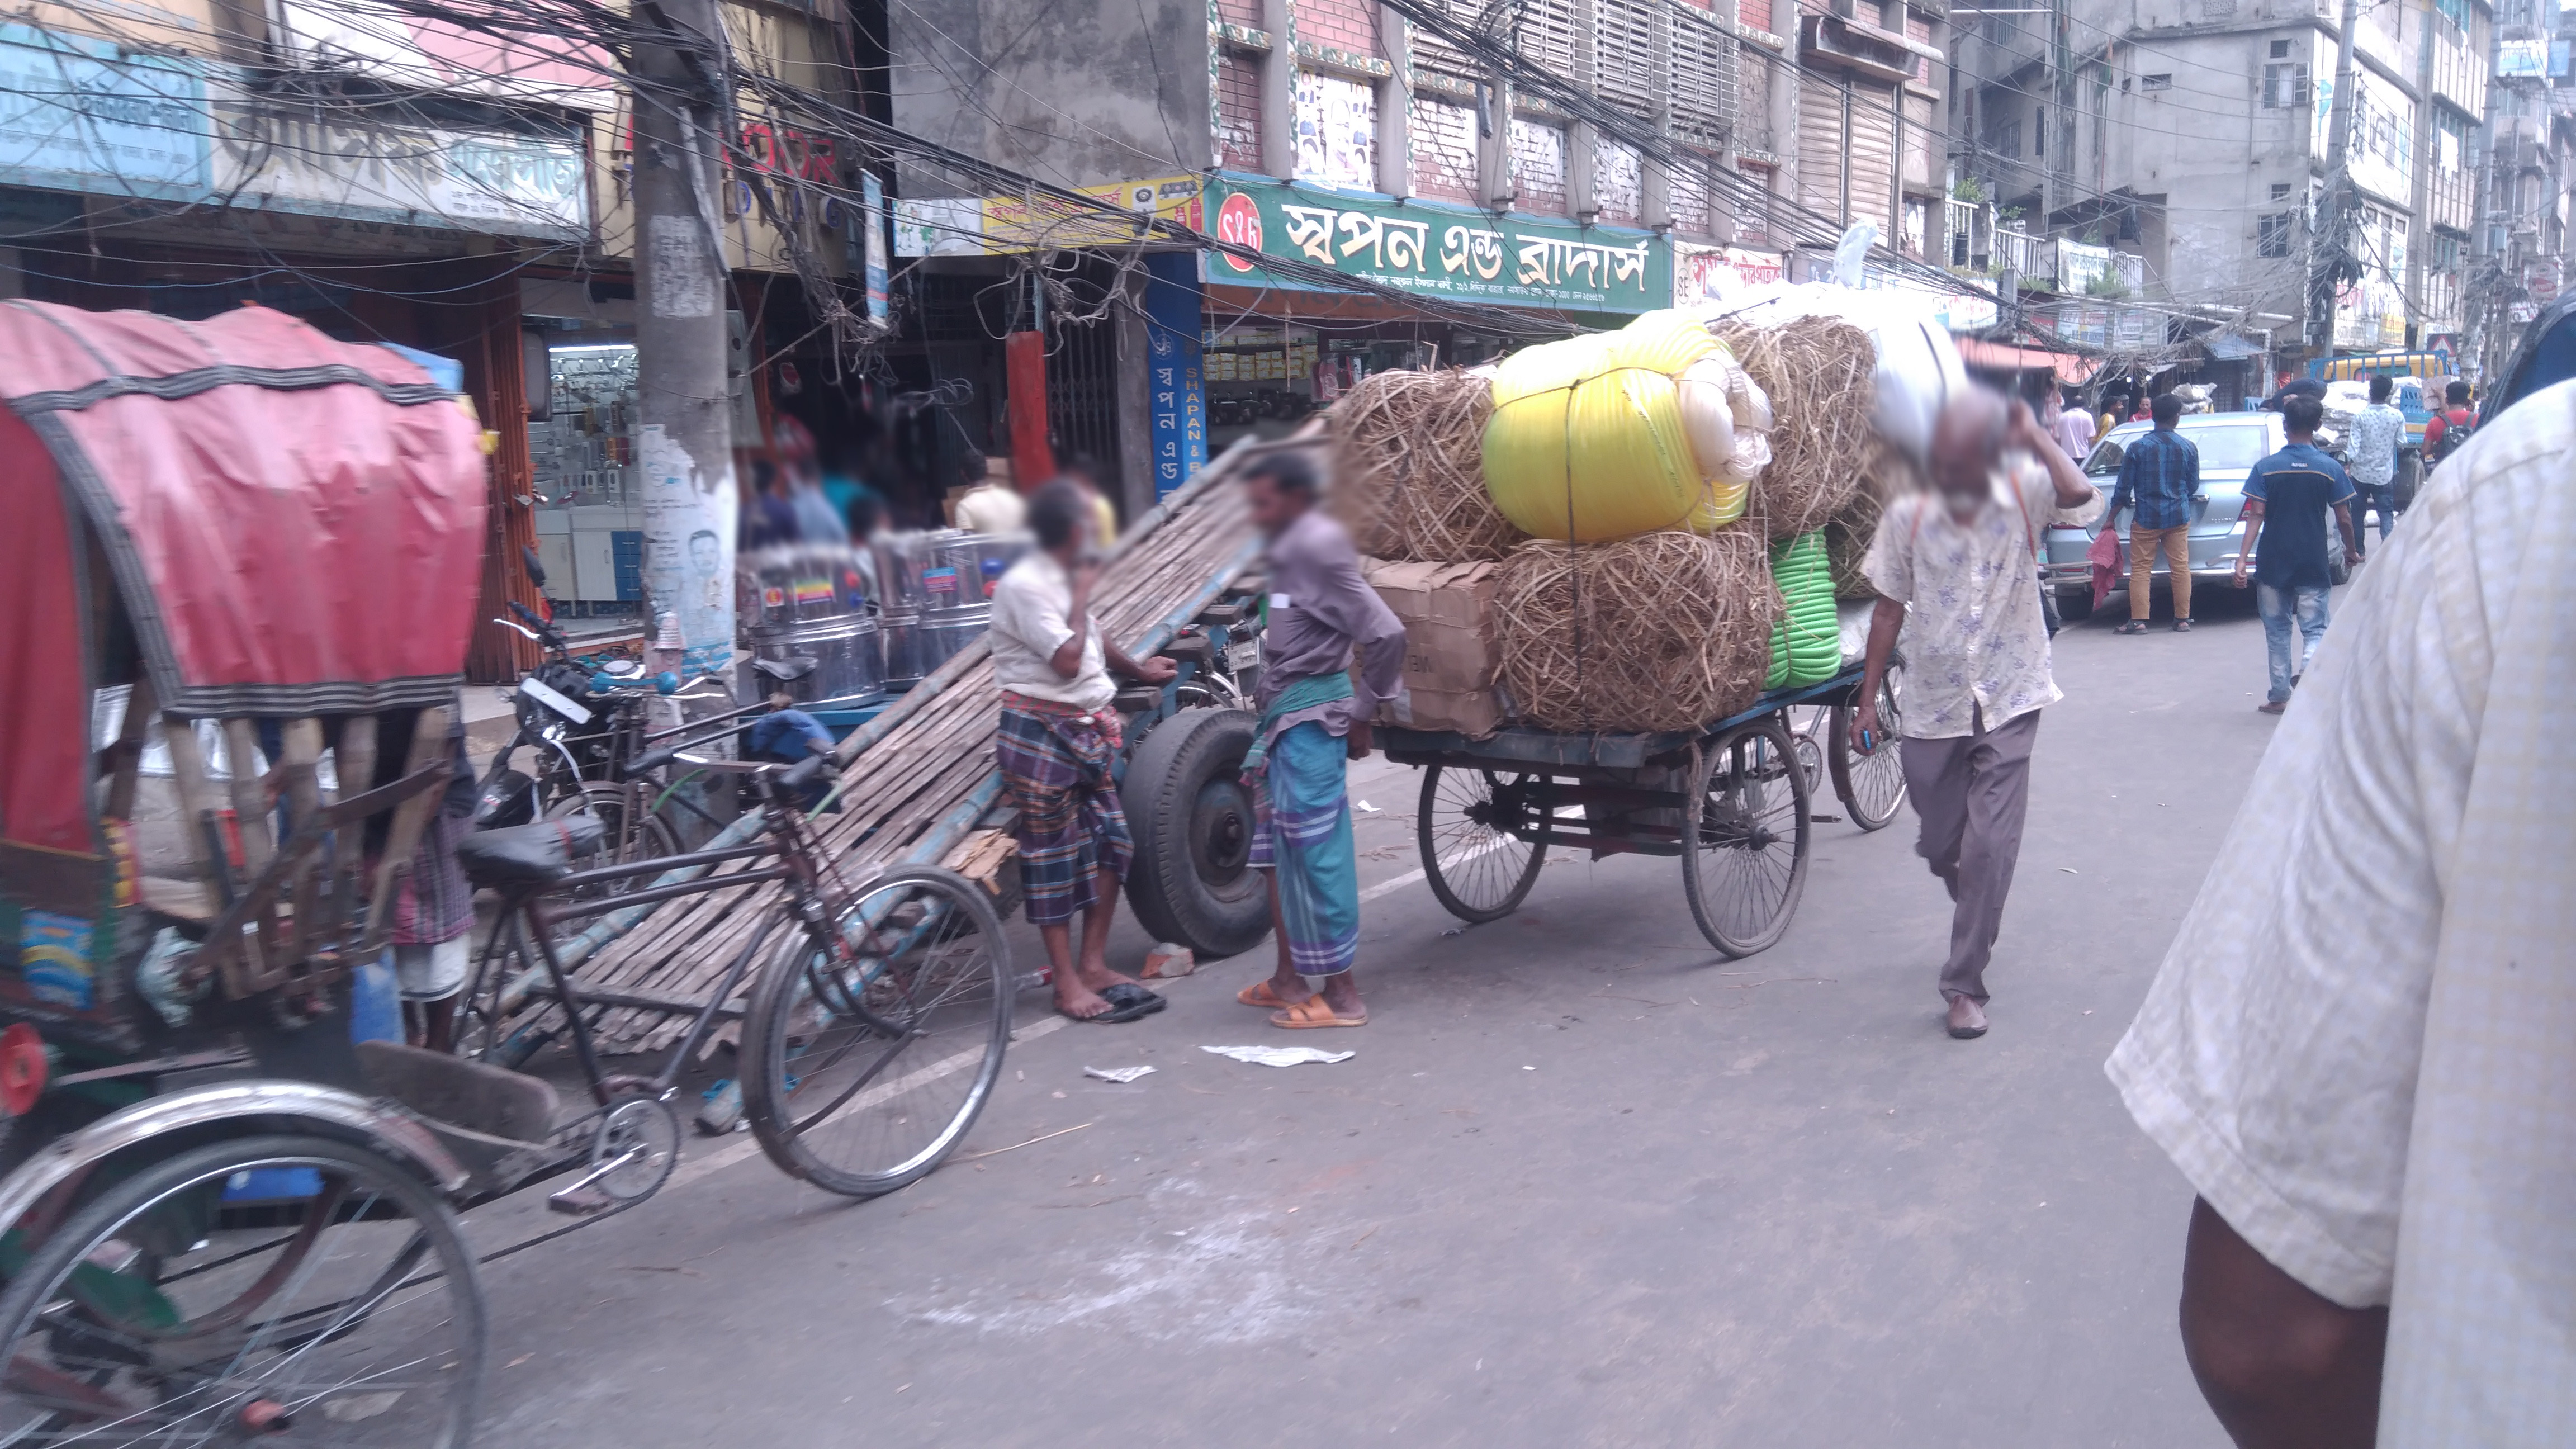car: (2035, 400, 2312, 621)
rickshaw: (0, 304, 1040, 1449)
van: (1320, 605, 1990, 968)
wheelbarrow: (458, 375, 1407, 1118)
